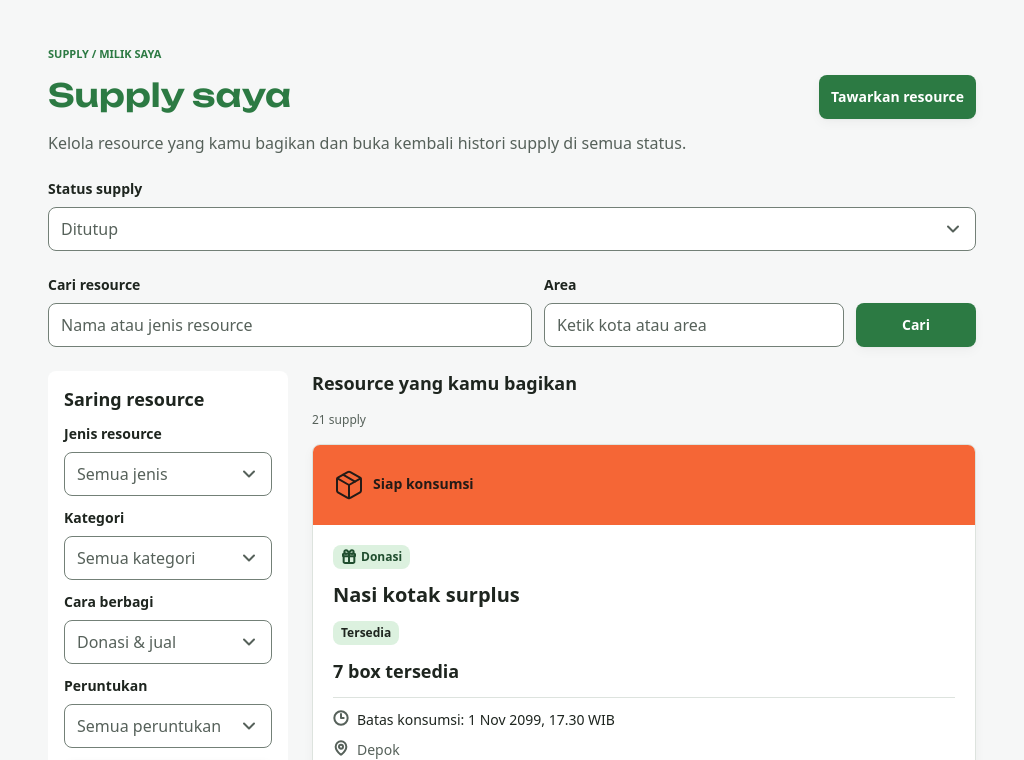
loads owner history with fixed scope=mine, status and pagination including archived entries
Select "Kedaluwarsa" in the dropdown named "Status supply": (512, 228) [48,206,976,250]
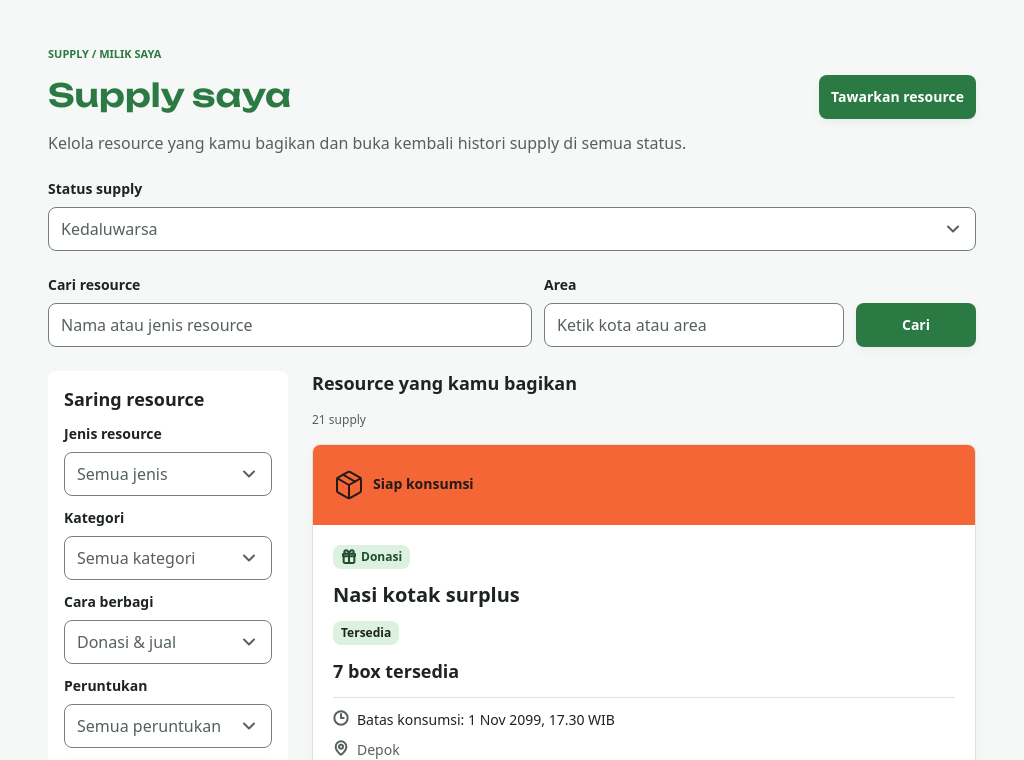
Select "Ditutup" in the dropdown named "Status supply": (512, 228) [48,206,976,250]
(page scrolled)
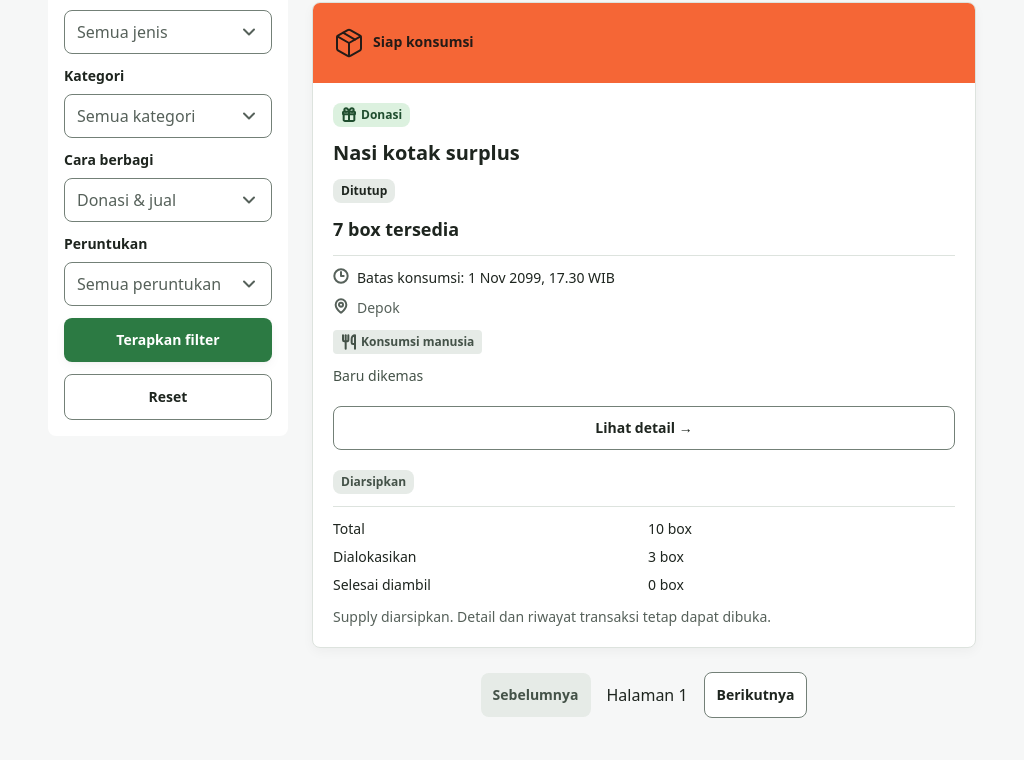
Check: the link to "/supply/7" is shown, box [333,406,955,450]
Check: the text "Diarsipkan" is shown, box [333,470,414,494]
